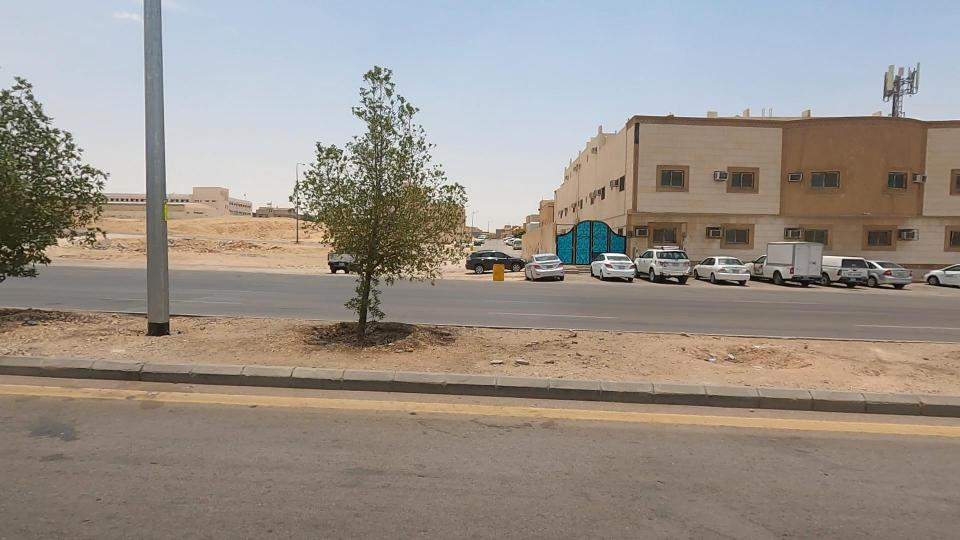CLUTTER_SIDEWALK: (284, 275, 960, 442)
